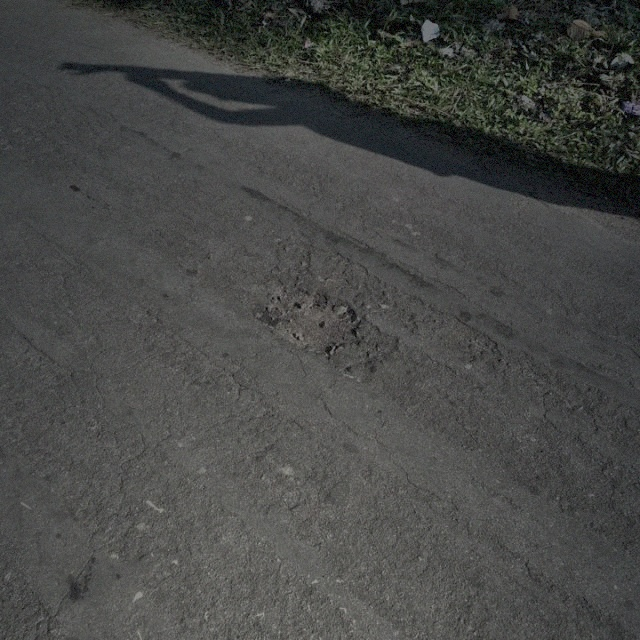pothole: (264, 286, 364, 358)
